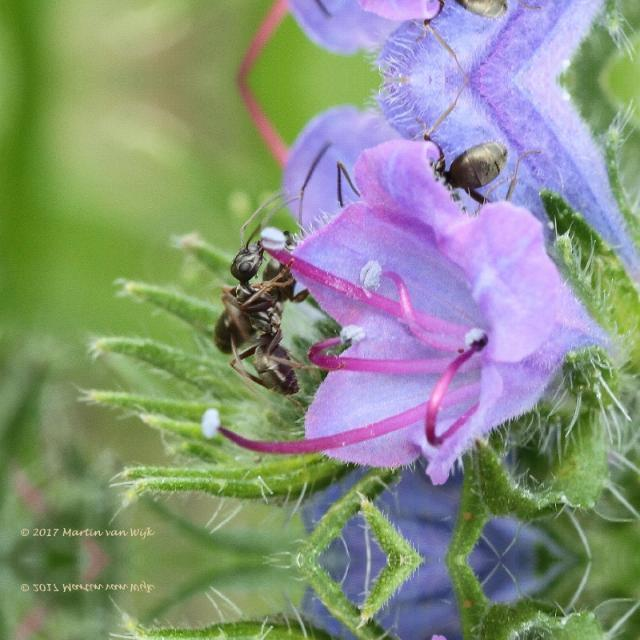Formica: (196, 216, 314, 397), (418, 126, 534, 208), (416, 0, 534, 34)
